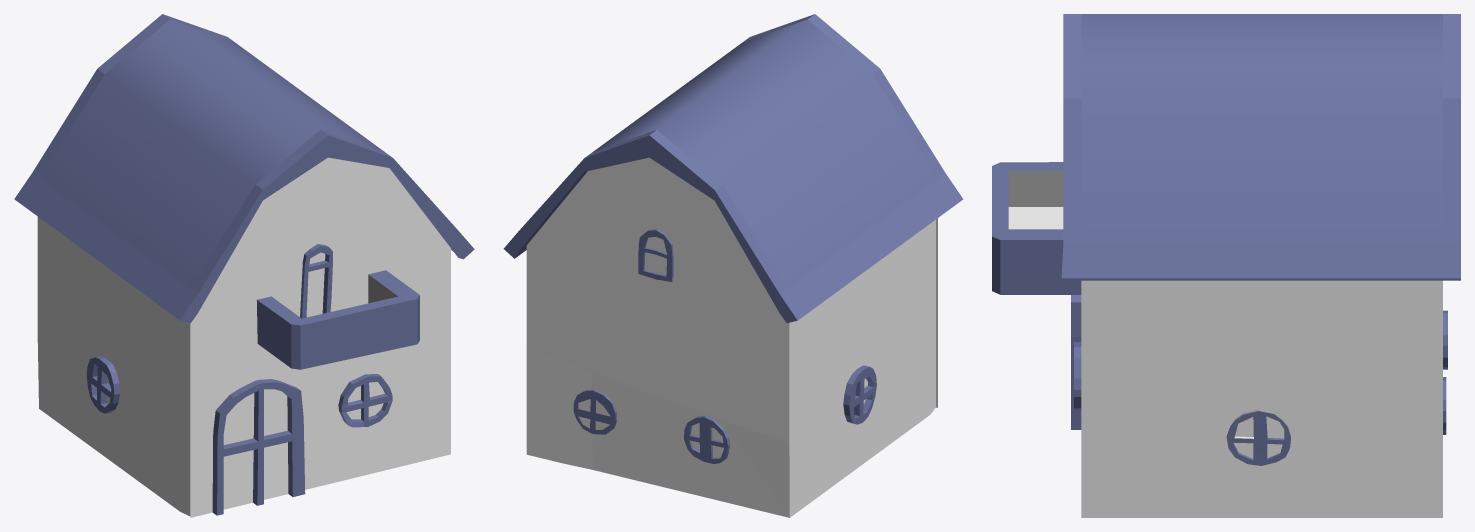
File: House 2 Final Shatter 1.fbx
3 renders of one model, left to right at view 1: azimuth 30°, elevation 25°; view 2: azimuth 150°, elevation 25°; view 3: azimuth 270°, elevation 25°, orthographic. The views are drawn at different scales.
Parts seen in each view (by area): view 1: polySurface464; view 2: polySurface464; view 3: polySurface464.
Boxes of the visible parts, left/top/right/bottom form: polySurface464: left=14, top=14, right=474, bottom=517; polySurface464: left=503, top=14, right=963, bottom=517; polySurface464: left=992, top=14, right=1460, bottom=517.
Bounding box in the file's own units: 226 × 261 × 259.
